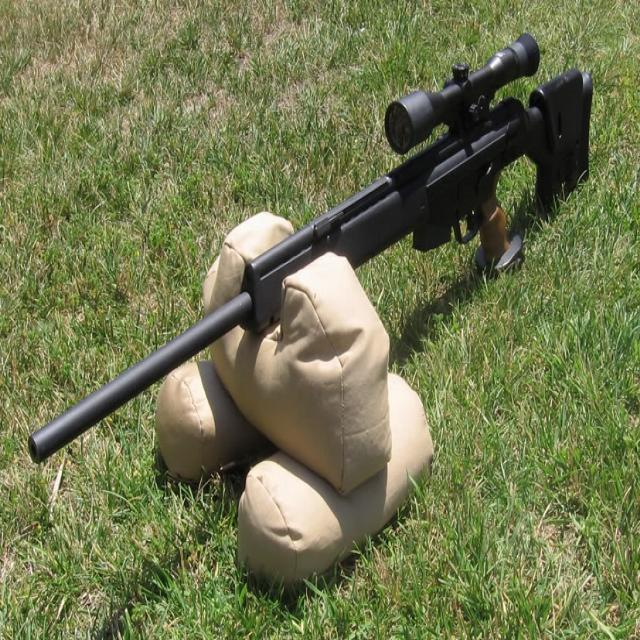rifle: (18, 30, 604, 478)
